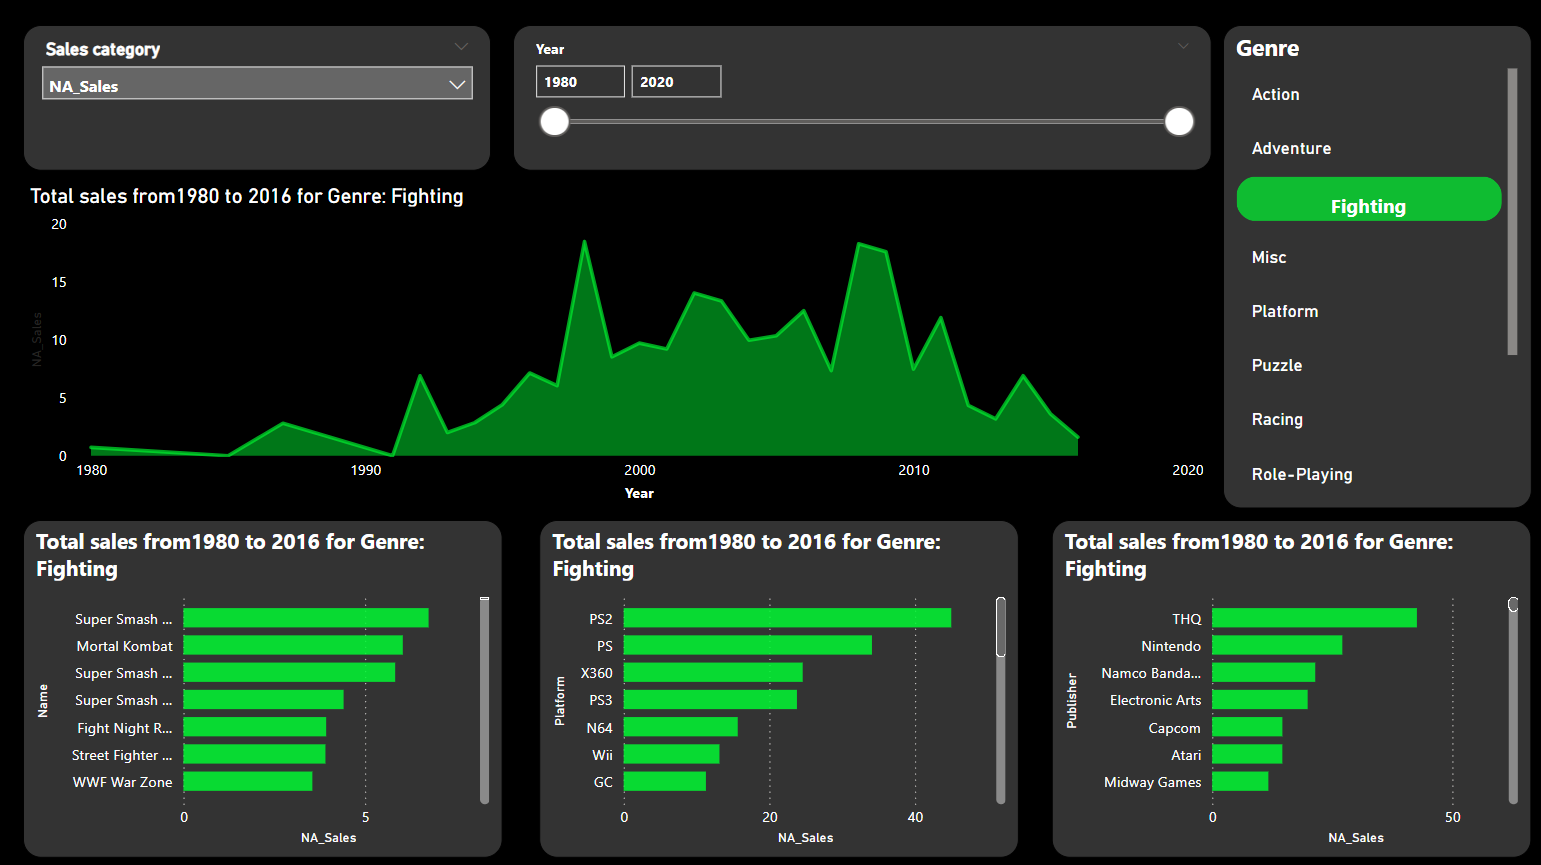

The page's visual inventory and layout, read from the dashboard file:
{"tool":"powerbi","page":{"name":"Page 1","canvas":[1280,720],"ordinal":0},"visuals":[{"type":"slicer","fields":{"Values":["Sales category.Sales category"]},"box":[20.9,20.9,388.4,120.9],"z":0},{"type":"areaChart","fields":{"Y":["vgsales.sum_na_sales"],"Category":["vgsales.Year"]},"box":[20.9,151.2,984.9,270.9],"z":1000},{"type":"slicer","fields":{"Values":["vgsales.Year"]},"box":[426.7,20.9,579.1,120.9],"z":2000},{"type":"advancedSlicerVisual","fields":{"Values":["vgsales.Genre"]},"box":[1015.1,20.9,255.8,401.2],"z":3000},{"type":"clusteredBarChart","fields":{"Y":["vgsales.sum_na_sales"],"Category":["vgsales.Name"]},"box":[20.9,431.4,397.7,280.2],"z":4000},{"type":"clusteredBarChart","fields":{"Y":["vgsales.sum_na_sales"],"Category":["vgsales.Platform"]},"box":[448.8,431.4,397.7,280.2],"z":5000},{"type":"clusteredBarChart","fields":{"Y":["vgsales.sum_na_sales"],"Category":["vgsales.Publisher"]},"box":[873.3,431.4,397.7,280.2],"z":6000}]}

Visuals, with their boxes in screenshot pixels (x1, y1, x2, y2), scaled from the page's 1280x720 canvas onto the 1541x865 screenshot:
slicer - Sales category.Sales category: [25,25,493,170]
areaChart - vgsales.sum_na_sales x vgsales.Year: [25,182,1211,507]
slicer - vgsales.Year: [514,25,1211,170]
advancedSlicerVisual - vgsales.Genre: [1222,25,1530,507]
clusteredBarChart - vgsales.sum_na_sales x vgsales.Name: [25,518,504,855]
clusteredBarChart - vgsales.sum_na_sales x vgsales.Platform: [540,518,1019,855]
clusteredBarChart - vgsales.sum_na_sales x vgsales.Publisher: [1051,518,1530,855]
